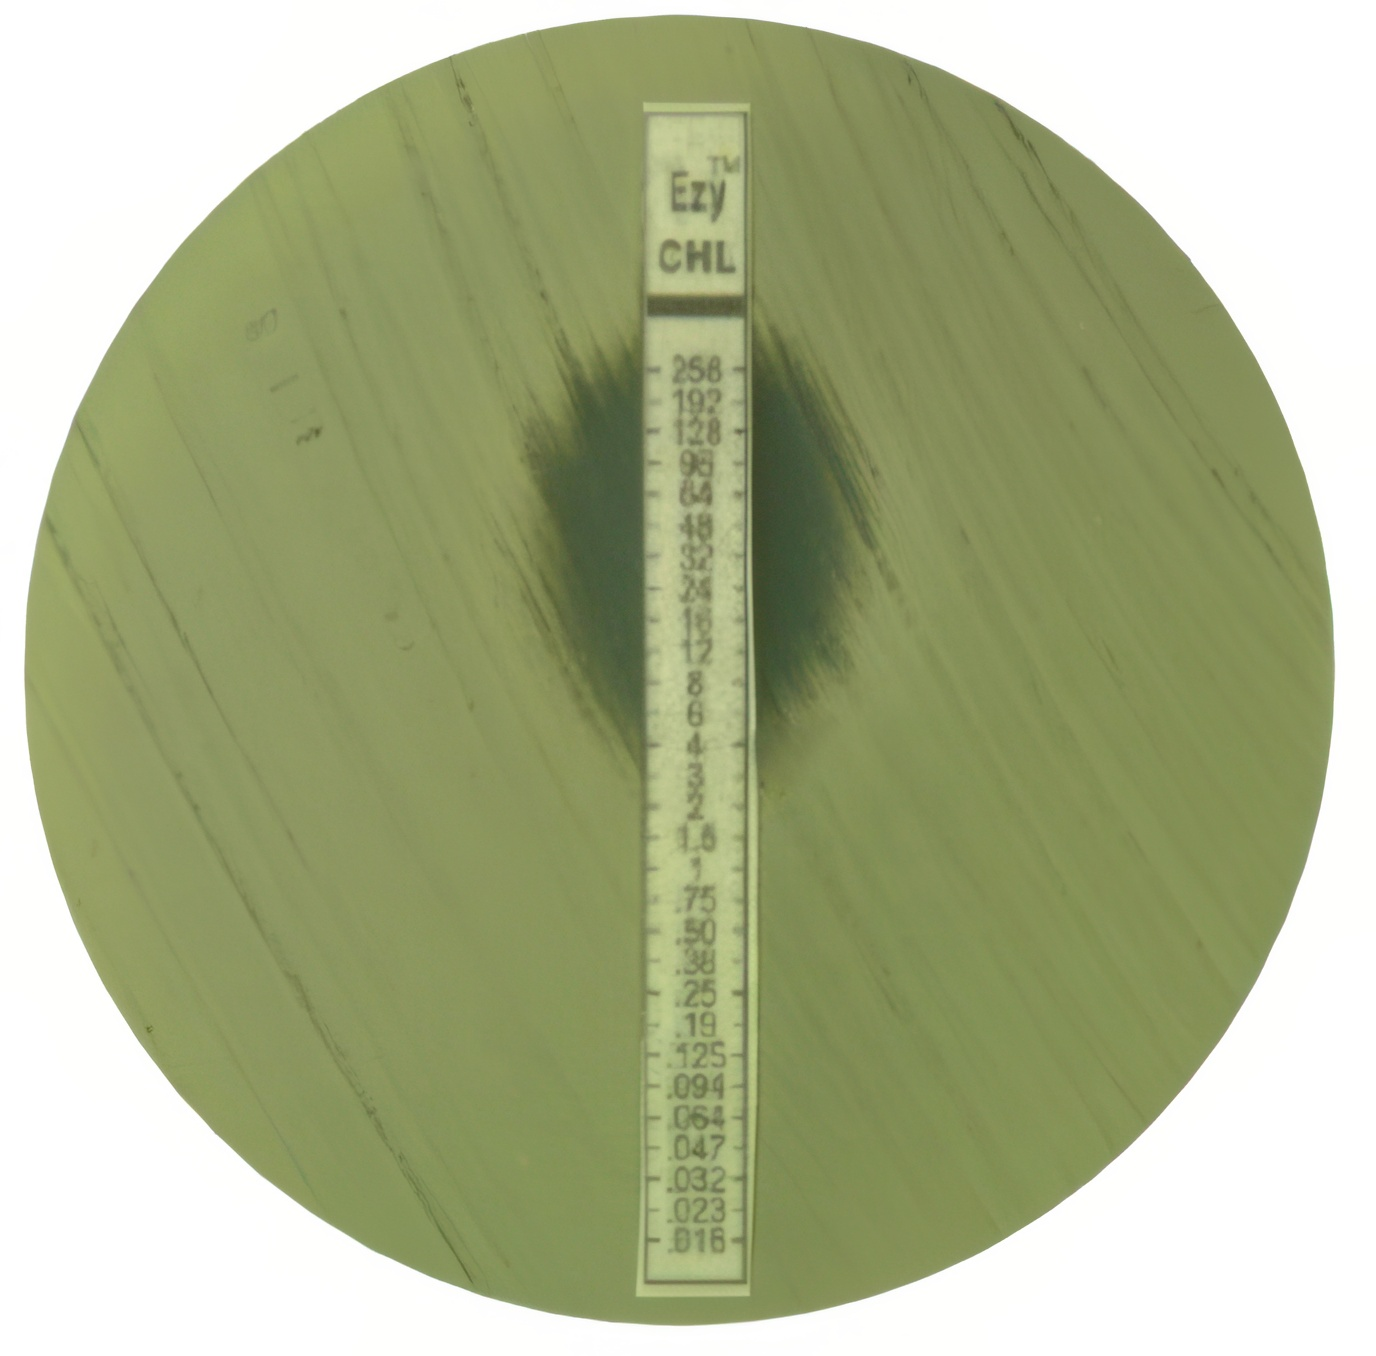line: (637, 99, 756, 1300)
zone: (559, 363, 840, 725)
